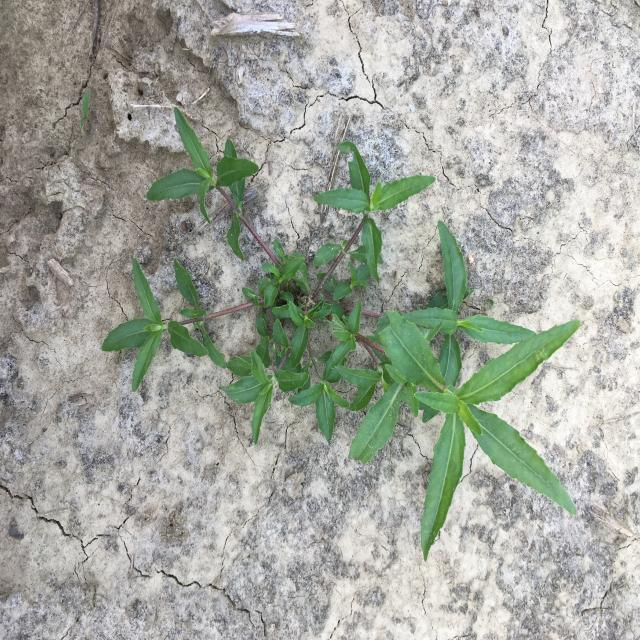Eclipta: (100, 106, 580, 563)
